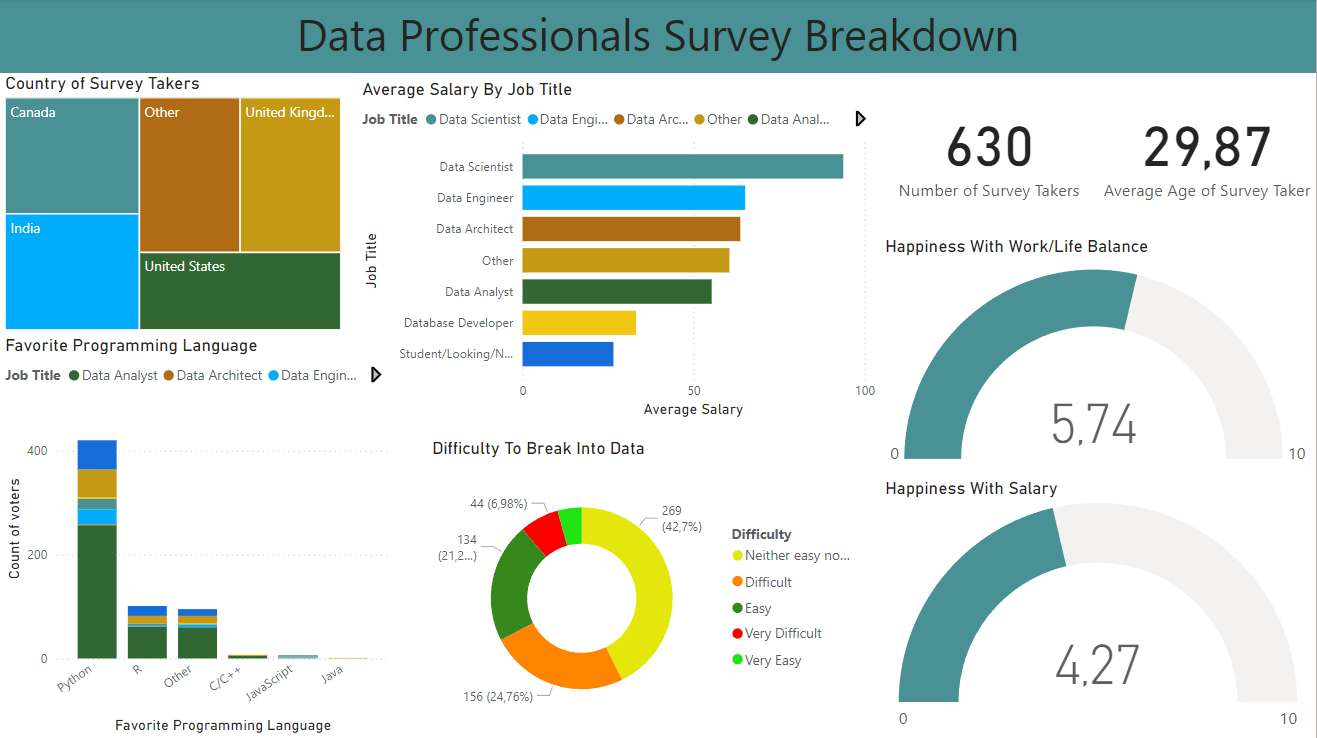

The page's visual inventory and layout, read from the dashboard file:
{"tool":"powerbi","page":{"name":"DataProfessionalsSurvey","canvas":[1280,720],"ordinal":0},"visuals":[{"type":"textbox","box":[0,0,1280,72],"z":0},{"type":"card","fields":{"Values":["Count(Data Professional Survey.Unique ID)"]},"box":[855.9,72,212,149.8],"z":1000},{"type":"card","fields":{"Values":["Avg(Data Professional Survey.Q10 - Current Age)"]},"box":[1068,72,212,149.8],"z":2000},{"type":"barChart","title":"Average Salary By Job Title","fields":{"Category":["Data Professional Survey.Q1 - Which Title Best Fits your Current Role?.1"],"Y":["Avg(Data Professional Survey.Average Salary)"],"Series":["Data Professional Survey.Q1 - Which Title Best Fits your Current Role?.1"]},"box":[347.2,77.8,508.7,334.6],"z":3000},{"type":"columnChart","title":"Favorite Programming Language","fields":{"Category":["Data Professional Survey.Q5 - Favorite Programming Language.1"],"Y":["CountNonNull(Data Professional Survey.Unique ID)"],"Series":["Data Professional Survey.Q1 - Which Title Best Fits your Current Role?.1"]},"box":[0,326.8,383.2,392.9],"z":4000},{"type":"treemap","title":"Country of Survey Takers","fields":{"Group":["Data Professional Survey.Q11 - Which Country do you live in?.1"],"Values":["Count(Data Professional Survey.Q11 - Which Country do you live in?.1)"]},"box":[0,72,336.5,254.8],"z":5000},{"type":"gauge","title":"Happiness With Work/Life Balance","fields":{"Y":["Avg(Data Professional Survey.Q6 - How Happy are you in your Current Position with the following? (Work/Life Balance))"],"MinValue":["Min(Data Professional Survey.Q6 - How Happy are you in your Current Position with the following? (Work/Life Balance))"],"MaxValue":["Max(Data Professional Survey.Q6 - How Happy are you in your Current Position with the following? (Work/Life Balance))"]},"box":[855.9,230.5,424.1,235.4],"z":6000},{"type":"gauge","title":"Happiness With Salary","fields":{"Y":["Avg(Data Professional Survey.Q6 - How Happy are you in your Current Position with the following? (Salary))"],"MinValue":["Min(Data Professional Survey.Q6 - How Happy are you in your Current Position with the following? (Salary))"],"MaxValue":["Max(Data Professional Survey.Q6 - How Happy are you in your Current Position with the following? (Salary))"]},"box":[855.9,465.9,424.1,253.9],"z":7000},{"type":"donutChart","title":"Difficulty To Break Into Data","fields":{"Category":["Data Professional Survey.Q7 - How difficult was it for you to break into Data?"],"Y":["Count(Data Professional Survey.Unique ID)"]},"box":[415.3,427,427,292.8],"z":8000}]}

Visuals, with their boxes in screenshot pixels (x1, y1, x2, y2), scaled from the page's 1280x720 canvas onto the 1317x738 screenshot:
textbox: region(0, 0, 1316, 74)
card - Count(Data Professional Survey.Unique ID): region(881, 74, 1099, 227)
card - Avg(Data Professional Survey.Q10 - Current Age): region(1099, 74, 1316, 227)
"Average Salary By Job Title" barChart: region(357, 80, 881, 423)
"Favorite Programming Language" columnChart: region(0, 335, 394, 737)
"Country of Survey Takers" treemap: region(0, 74, 346, 335)
"Happiness With Work/Life Balance" gauge: region(881, 236, 1316, 478)
"Happiness With Salary" gauge: region(881, 478, 1316, 737)
"Difficulty To Break Into Data" donutChart: region(427, 438, 867, 737)
